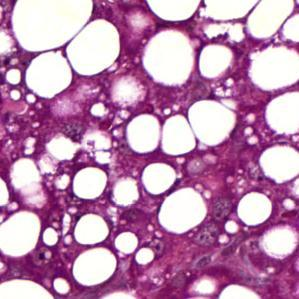steatosis: (144, 32, 197, 83), (160, 190, 212, 233), (160, 113, 196, 161), (126, 111, 160, 154), (70, 163, 109, 200)
